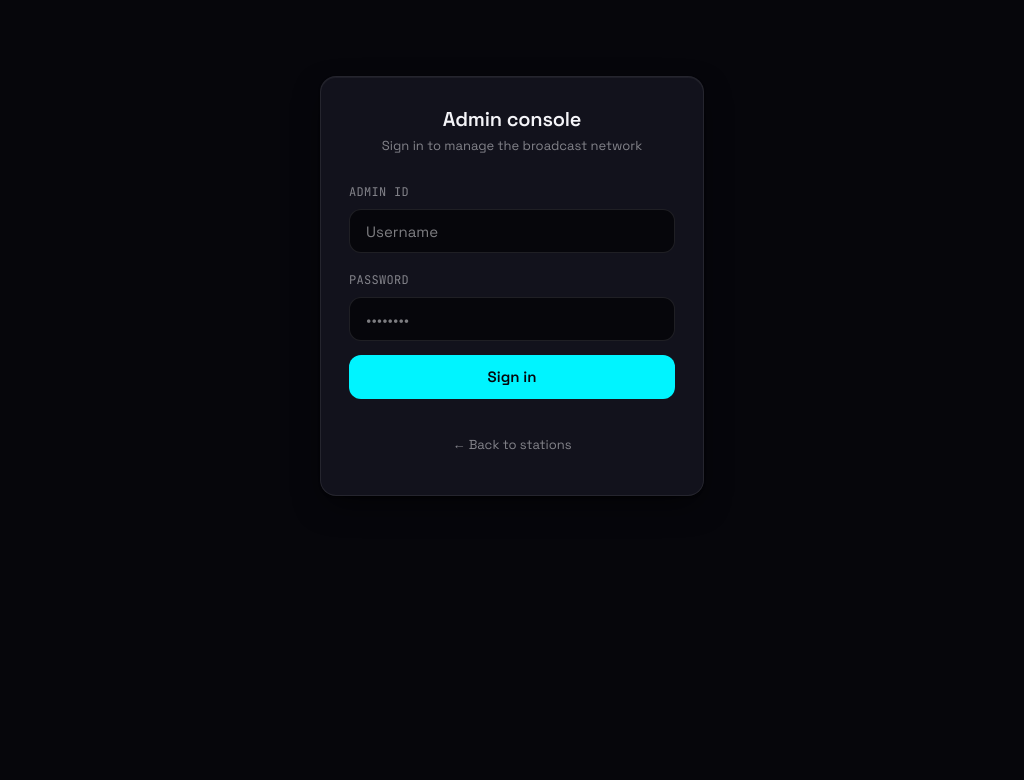
AdminPanel › scan endpoints reports each check
The image size is (1024, 780).
Type "test-admin" into the field labelled "Admin ID".
click(512, 231); type("test-admin")  # box top-left (349, 209), bottom-right (675, 253)
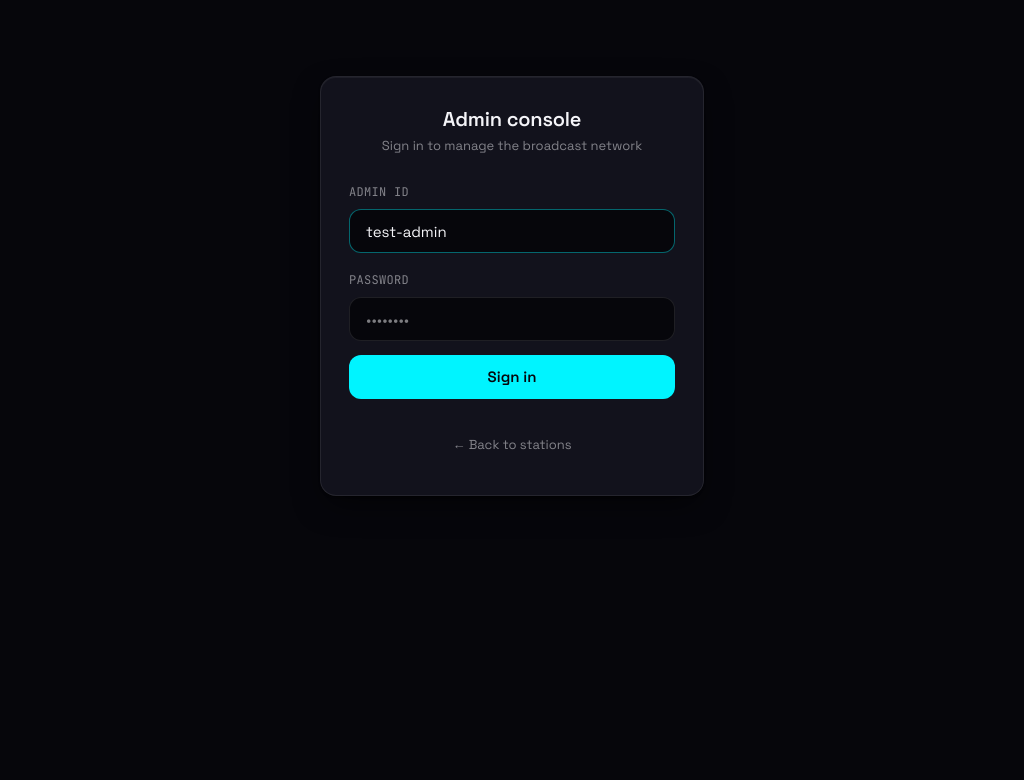
Type "test-pass" into the password field labelled "Password".
click(512, 319); type("test-pass")  # box top-left (349, 297), bottom-right (675, 341)
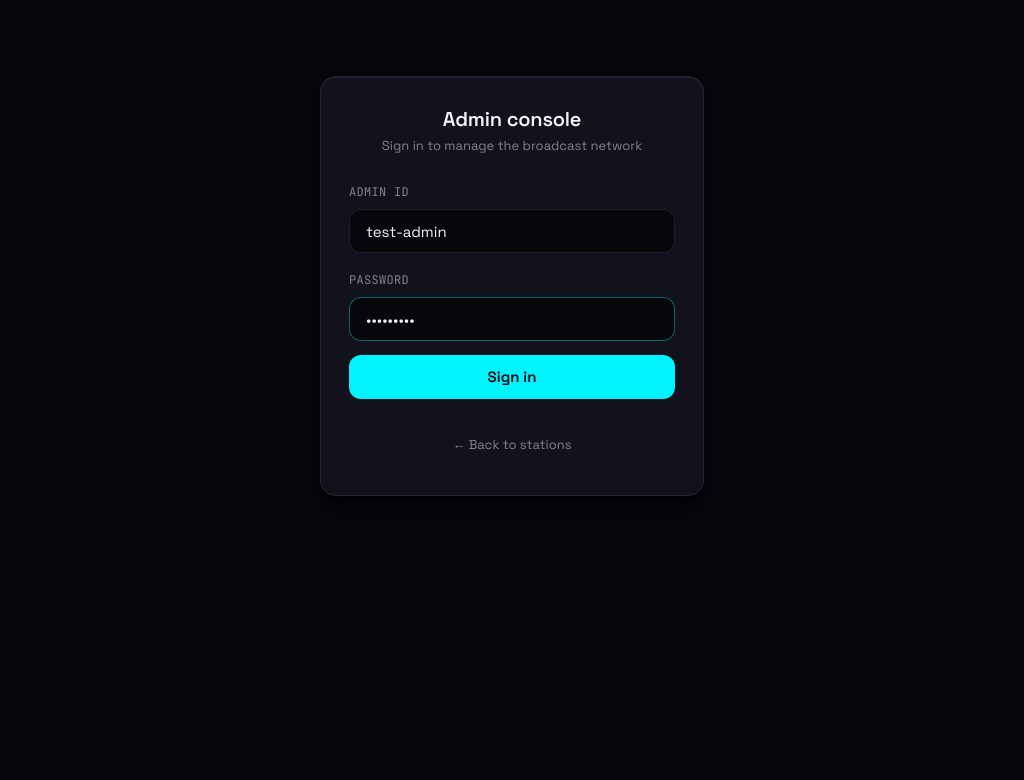
Click the button "Sign in".
click(512, 377)  # box top-left (349, 355), bottom-right (675, 399)
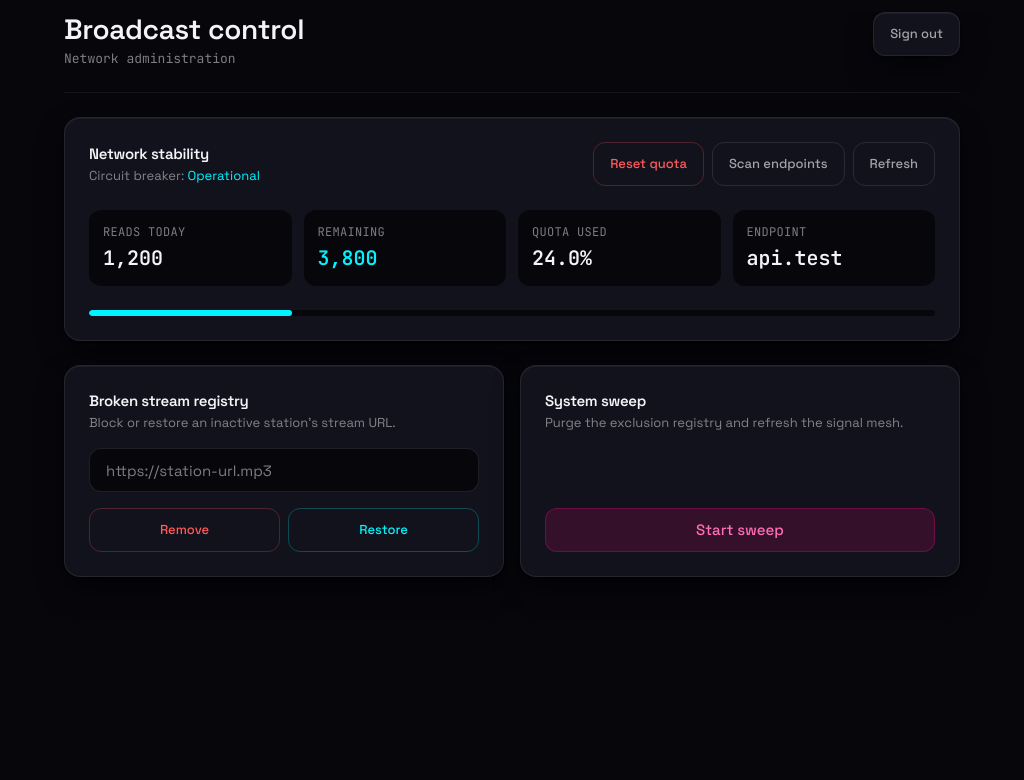
Expected: the heading "Broadcast control" is shown, top-left (64, 12), bottom-right (304, 46)
Click the button "Scan endpoints".
click(778, 164)  # box top-left (712, 142), bottom-right (844, 186)
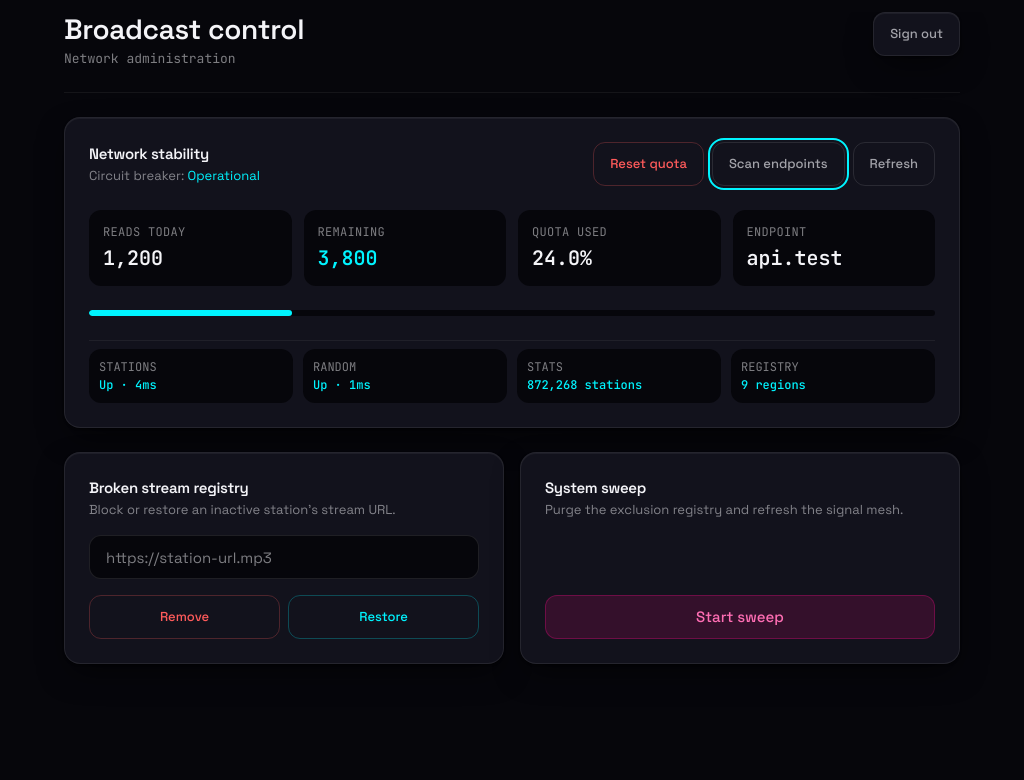
Expected: the text "872,268 stations" is shown, top-left (527, 377), bottom-right (642, 393)
Expected: the text "9 regions" is shown, top-left (741, 377), bottom-right (806, 393)
Expected: the text "Up · 4ms" is shown 2 times, top-left (99, 377), bottom-right (157, 393); top-left (313, 377), bottom-right (371, 393)
